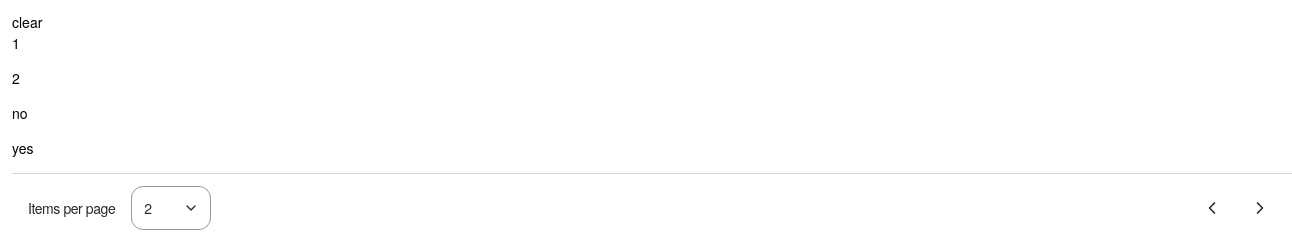
DataTablePagination + provider › updates pagination state via next/previous and page-size controls
Expected: the text with test id "page" reads "1", [12,33,20,53]
Expected: the text with test id "rows" reads "2", [12,68,20,88]
Click the button named "Next page".
click(1260, 208)  # box [1244,192,1276,224]
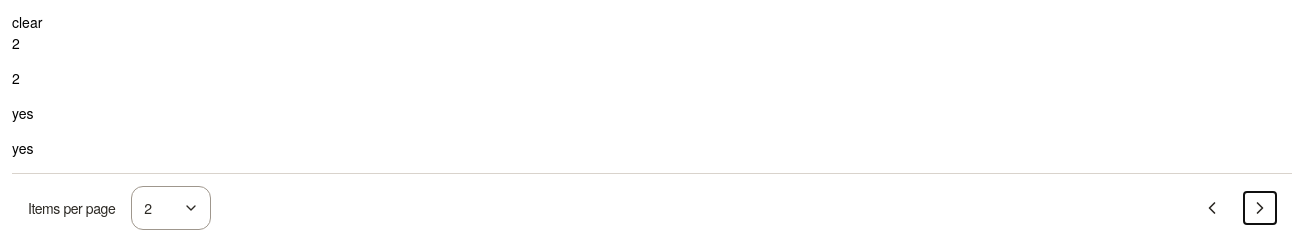
Expected: the text with test id "page" reads "2", [12,33,20,53]
Expected: the text with test id "can-prev" reads "yes", [12,103,33,123]
Select "4" in the dropdown labelled "Items per page" at (171, 208), box [131,186,211,230]
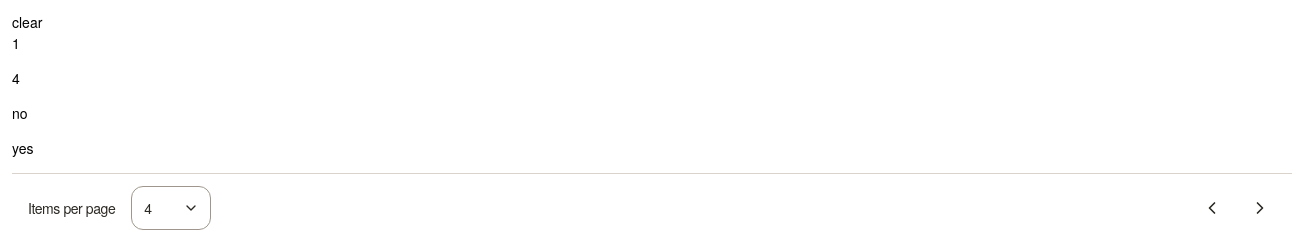
Expected: the text with test id "can-next" reads "yes", [12,138,33,158]
Expected: the text with test id "rows" reads "4", [12,68,20,88]
Expected: the text with test id "page" reads "1", [12,33,20,53]
